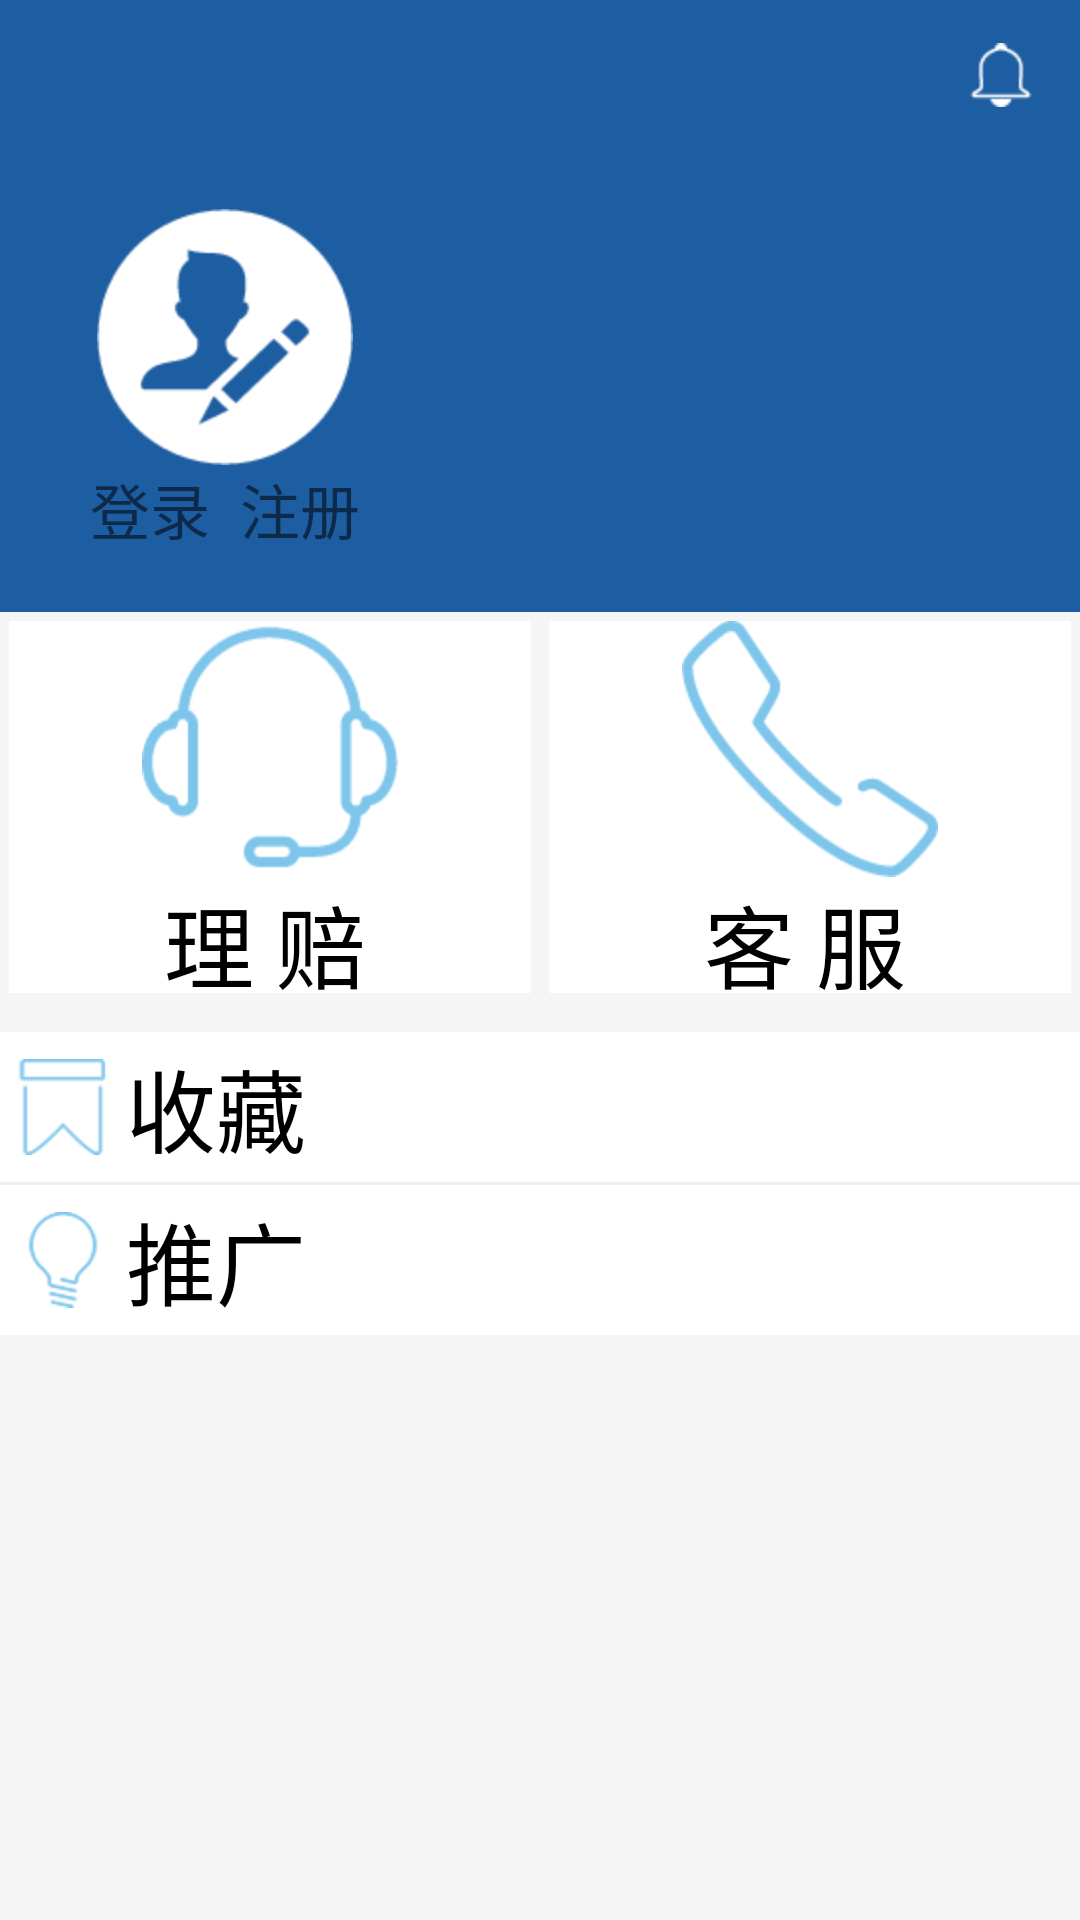

Screen size 1080*1920. Icon name, then its box in pixels as Rect(x1, y1, x2, y2):
save: Rect(19, 1059, 106, 1155)
